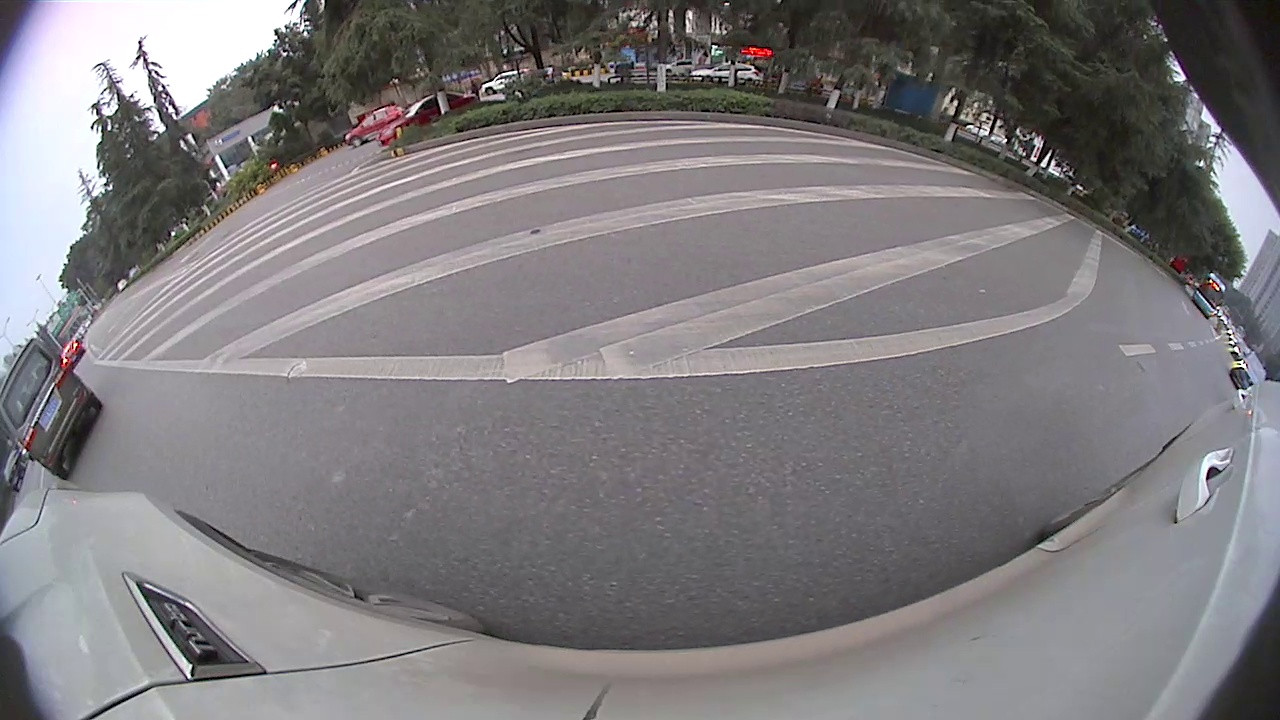bus: (1189, 269, 1230, 318)
car: (1, 329, 106, 482), (376, 86, 483, 151), (341, 102, 408, 151), (1229, 341, 1269, 398)
front: (351, 135, 363, 148)
